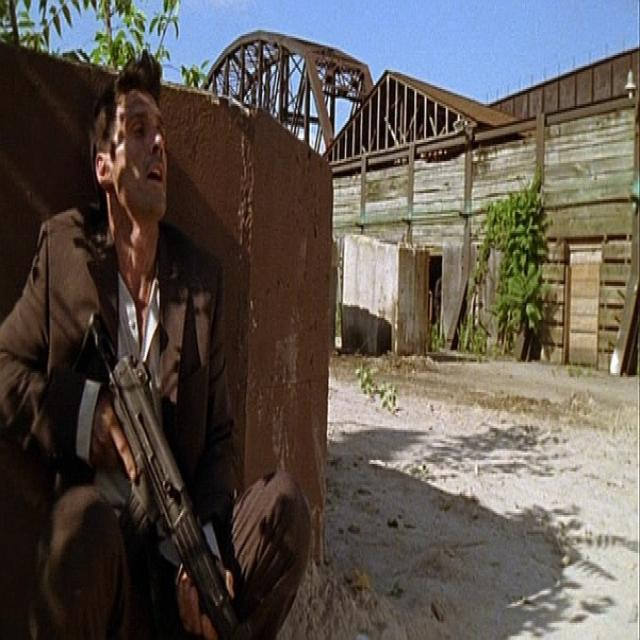rifle: (79, 306, 244, 638)
